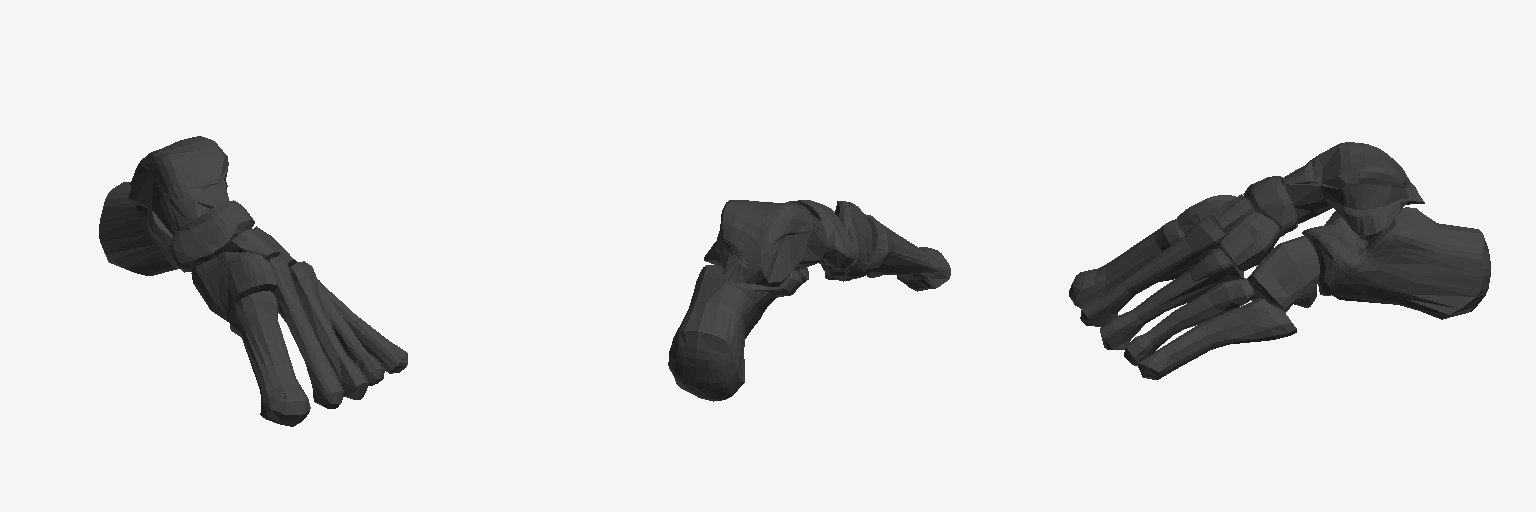
Rendered from L_Talus.obj.
3 renders of one model, left to right at view 1: azimuth 30°, elevation 25°; view 2: azimuth 150°, elevation 25°; view 3: azimuth 270°, elevation 25°, orthographic.
Size of the model in its own units: 0.0825 by 0.0812 by 0.1756.